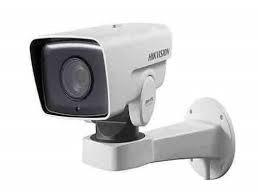tutu: (26, 18, 183, 132)
